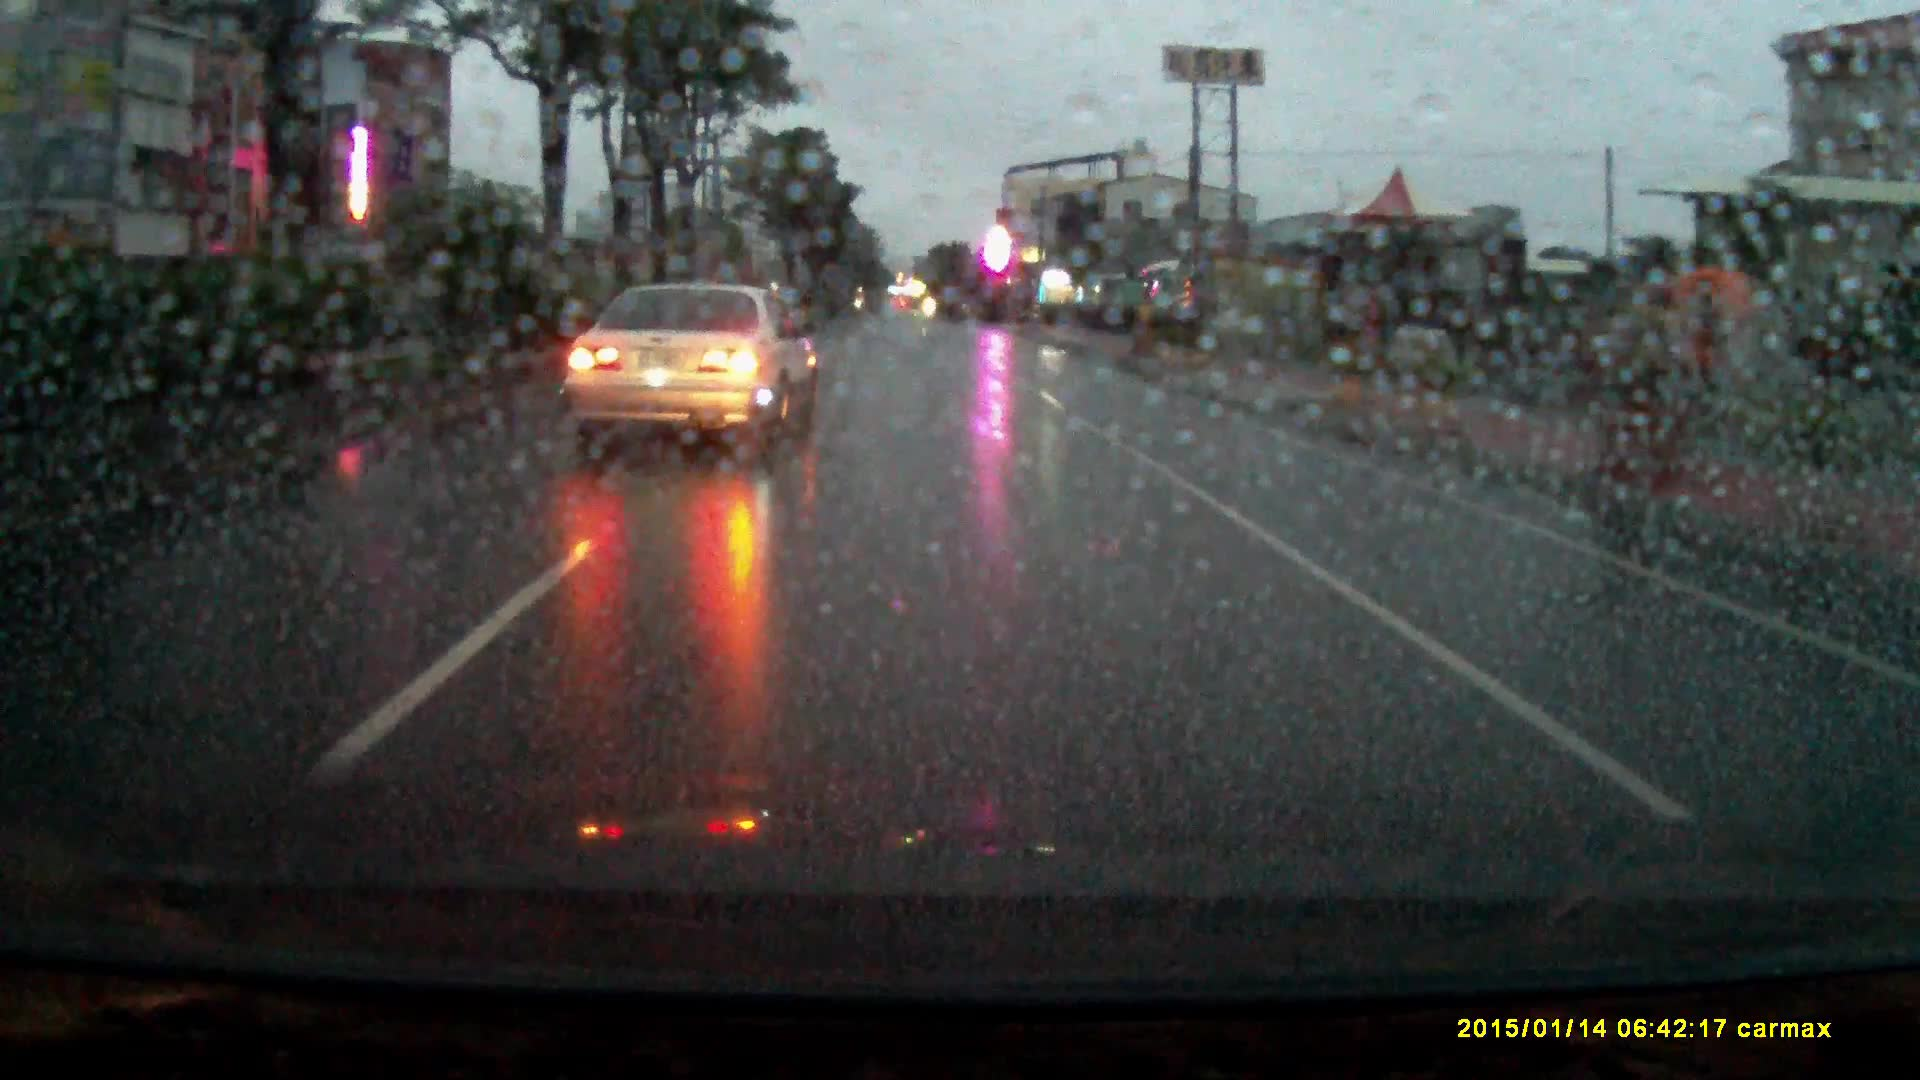pedestrian: (1659, 263, 1761, 497)
vehicle: (556, 286, 824, 464), (1083, 276, 1135, 314)
